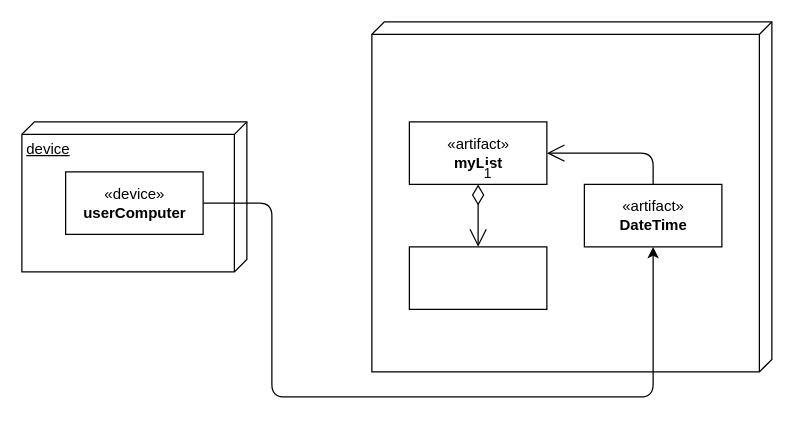
This 794x429 diagram has some shape labels left out. Each missing label, with the box of its shape:
Application: (371, 21, 772, 372)
«library» MyLists: (408, 246, 547, 309)
